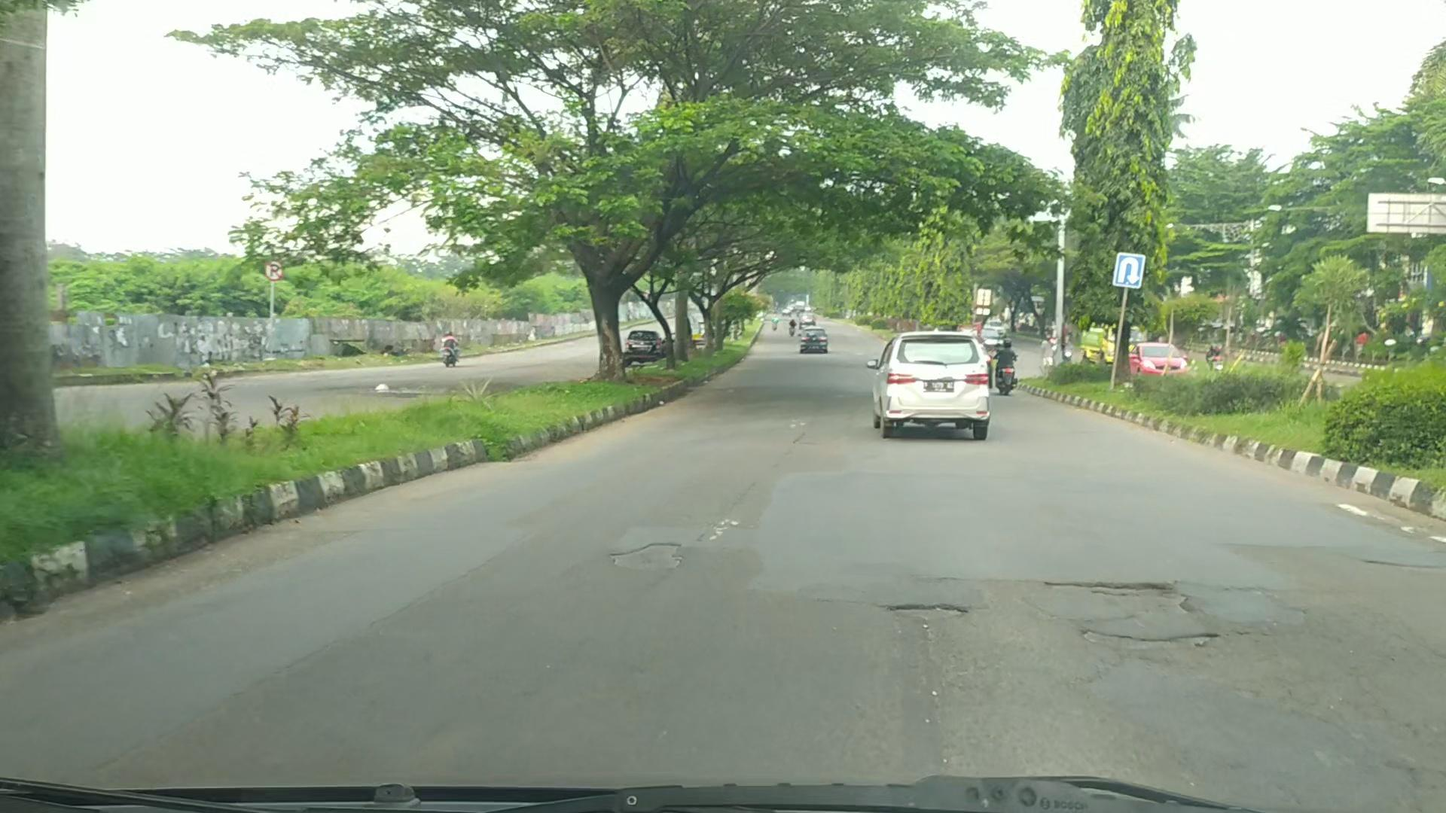pothole: (1081, 629, 1222, 651), (607, 541, 685, 573), (1042, 580, 1177, 593), (883, 601, 970, 620)
